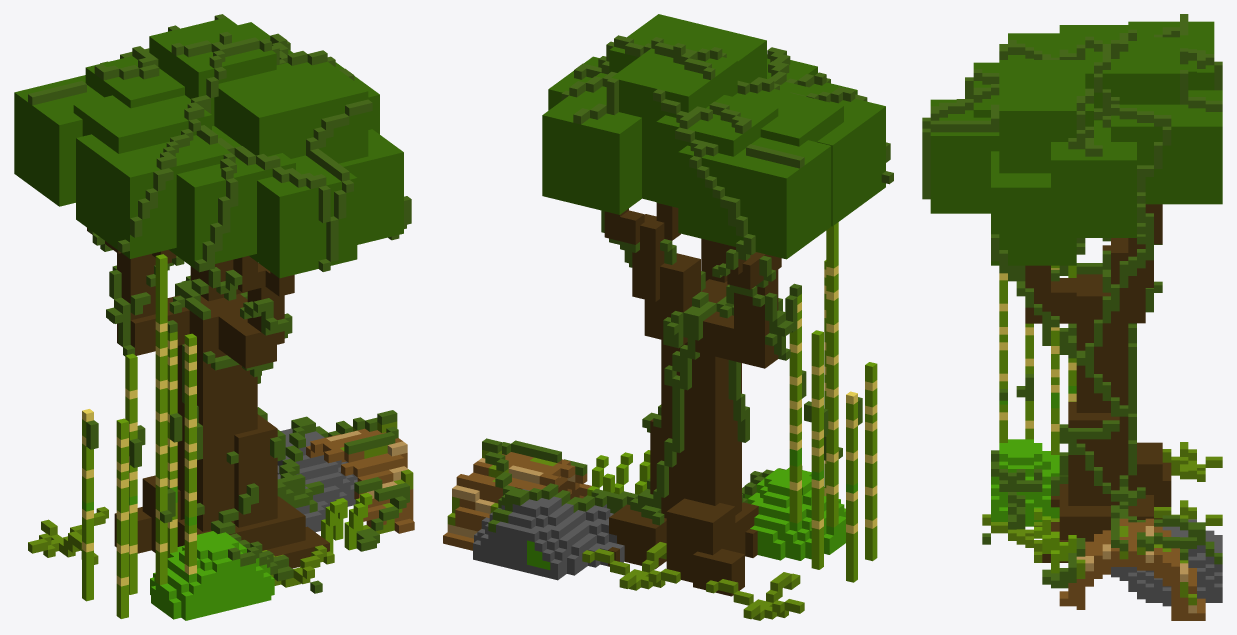
The model's file is tiles 0 morceau 4.obj.
3 views of the same model, side by side, from view 1: azimuth 30°, elevation 25°; view 2: azimuth 150°, elevation 25°; view 3: azimuth 270°, elevation 25° (orthographic). The views are drawn at different scales.
Visible parts, largest first — view 1: tiles 0 morceau 4; view 2: tiles 0 morceau 4; view 3: tiles 0 morceau 4.
Boxes of the visible parts, box(x1,y1,x2,y2) form: tiles 0 morceau 4: box(14, 14, 414, 620); tiles 0 morceau 4: box(443, 14, 893, 620); tiles 0 morceau 4: box(922, 14, 1222, 620).
Size of the model in its own units: 45 by 63 by 35.
1 material, 1 textured.
